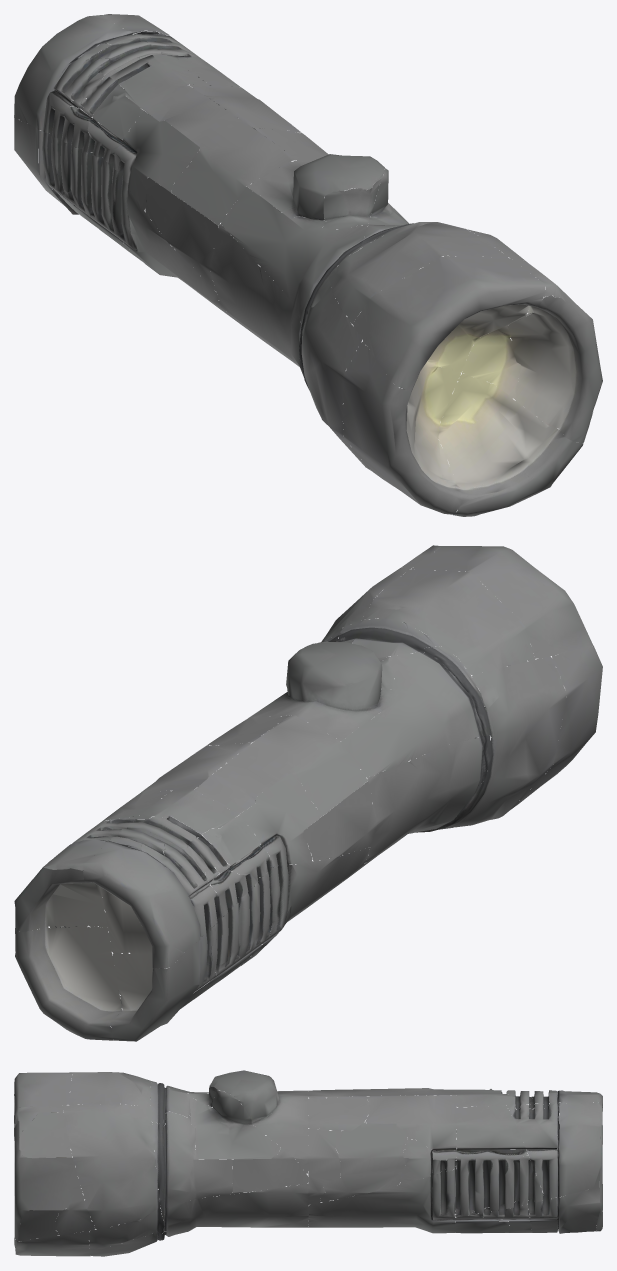
Rendered from Prop_Flashlight_Ch1.glb.
3 renders of one model, top to bottom at view 1: azimuth 30°, elevation 25°; view 2: azimuth 150°, elevation 25°; view 3: azimuth 270°, elevation 25°, orthographic. The views are drawn at different scales.
Visible parts, largest first — view 1: tripo_node_0cd5b528-e4f7-457b-a296-f13aa73b0833; view 2: tripo_node_0cd5b528-e4f7-457b-a296-f13aa73b0833; view 3: tripo_node_0cd5b528-e4f7-457b-a296-f13aa73b0833.
Part boxes in pixels (x1,y1,x2,y2): tripo_node_0cd5b528-e4f7-457b-a296-f13aa73b0833: (14,14,602,516); tripo_node_0cd5b528-e4f7-457b-a296-f13aa73b0833: (14,545,602,1041); tripo_node_0cd5b528-e4f7-457b-a296-f13aa73b0833: (14,1070,602,1256).
Bounding box in the file's own units: 0.3203 × 0.3212 × 0.9999.
1 material, 1 textured.
